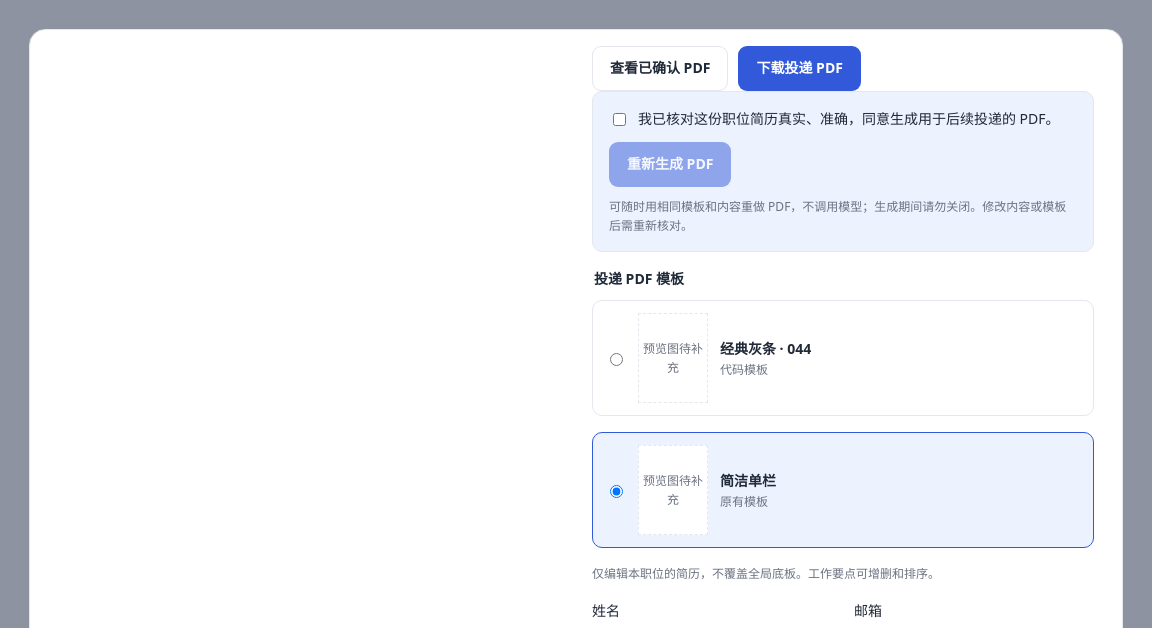
Test: job editor and PDF templates › surfaces conversion failure without exposing old bytes as the newly selected template
(page scrolled)
Step 1. Click the radio button labelled "预览图待补充 经典灰条 · 044 代码模板" → (616, 360), box [610,353,623,366]
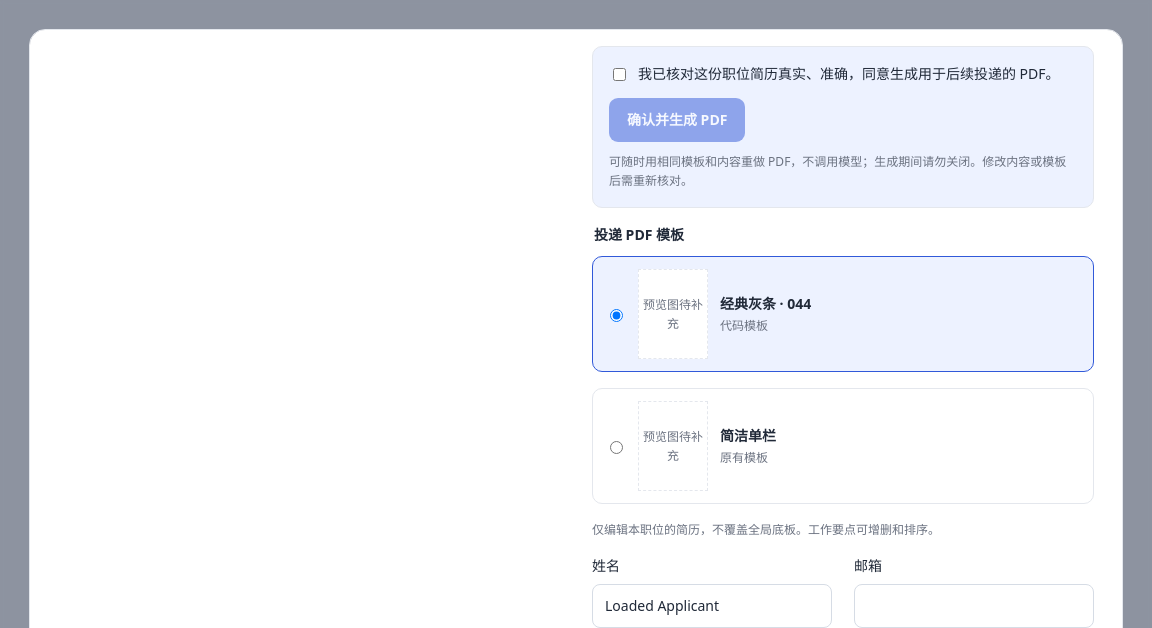
Step 2. Click the checkbox labelled "我已核对这份职位简历真实、准确，同意生成用于后续投递的 PDF。" → (620, 75), box [613,68,626,81]
(page scrolled)
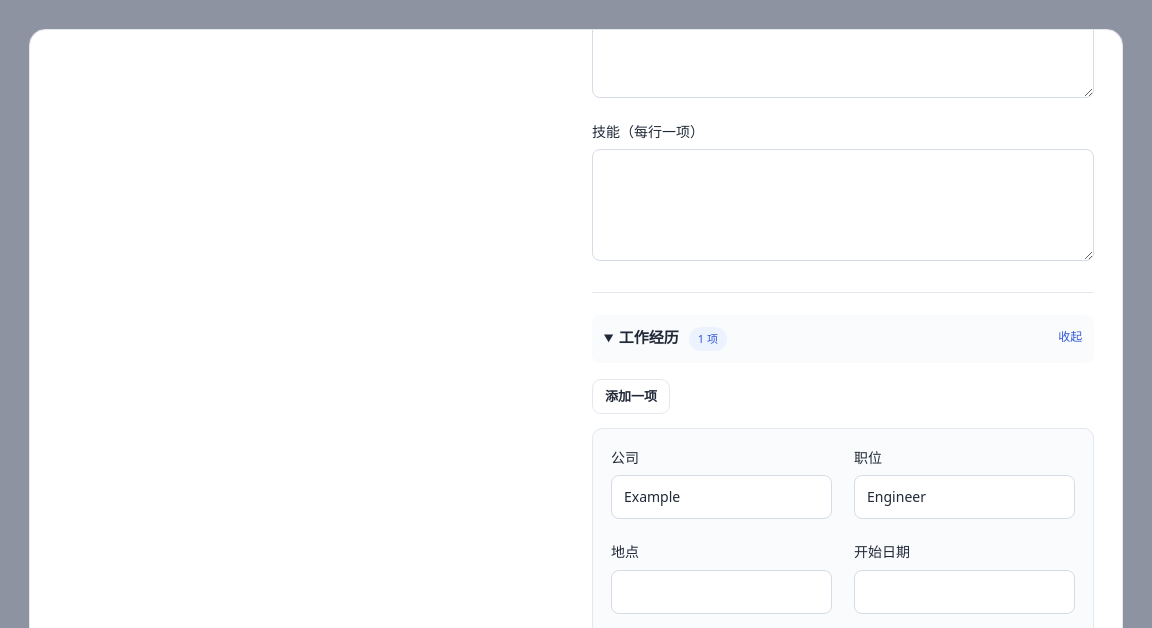
Step 3. Submit the form
(page scrolled)
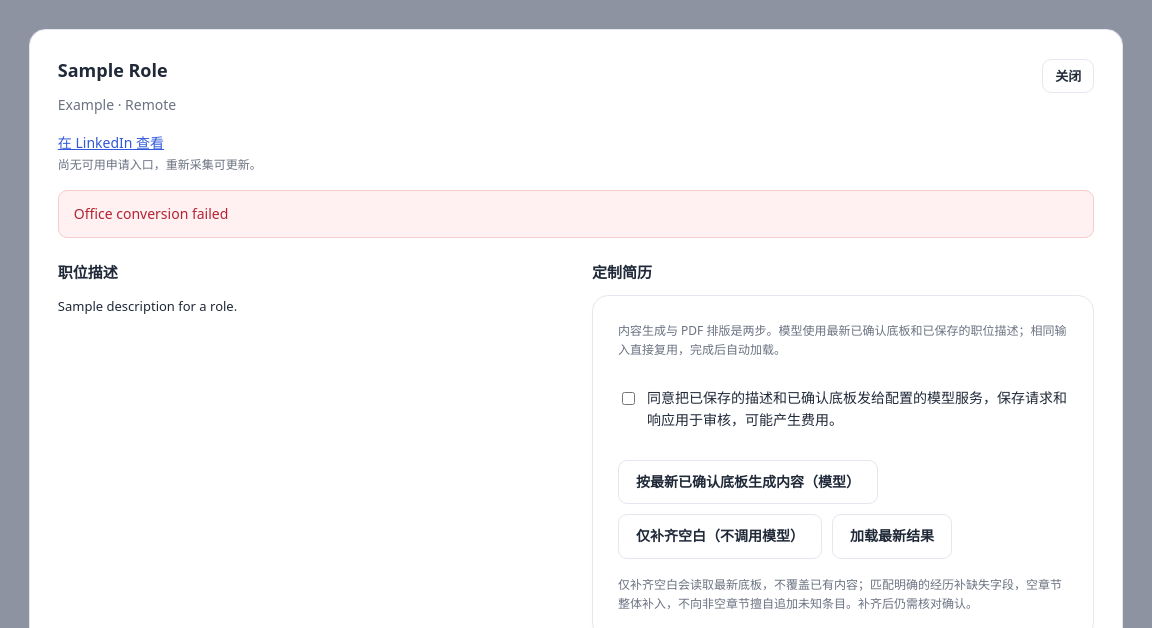
expect the message "Office conversion failed" is shown: met, box [58,190,1094,238]
